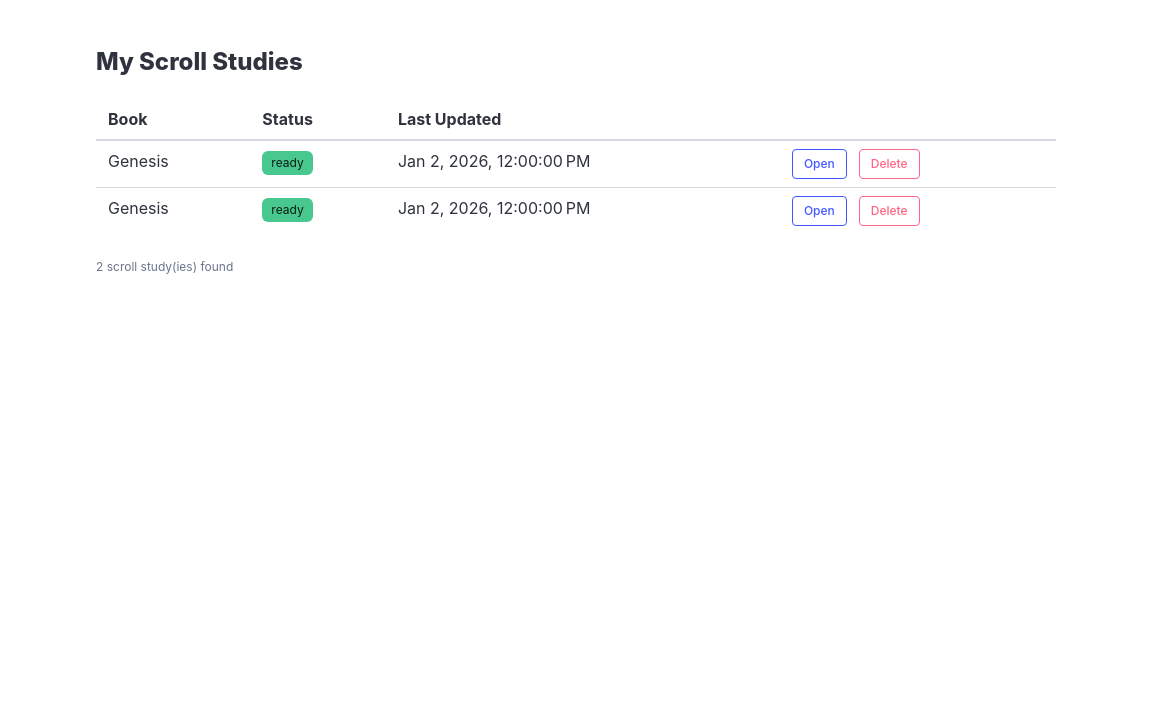
ScrollListComponent › deletes a scroll study on confirm and removes it from the list
Click the 1st button with test id "delete-scroll-button" at (889, 164), box [859,149,920,179]
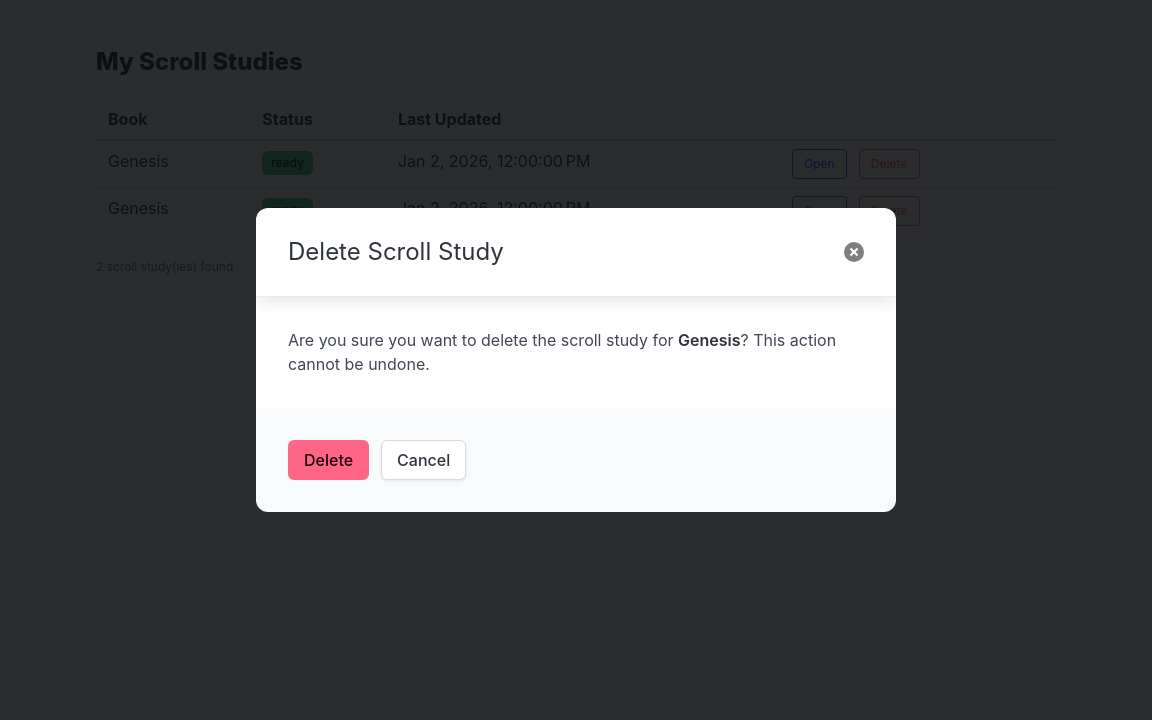
Click the button with test id "confirm-scroll-delete-button" at (329, 460), box [288,440,369,480]
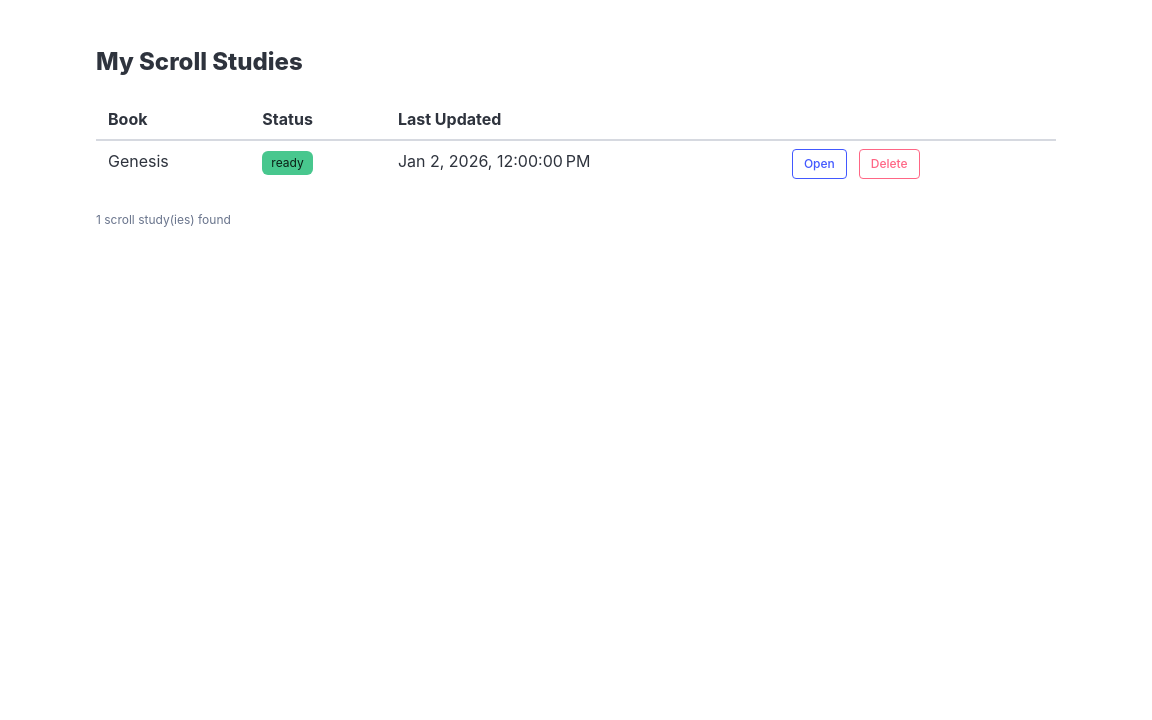
Expected: the element with test id "scroll-delete-modal" is gone
